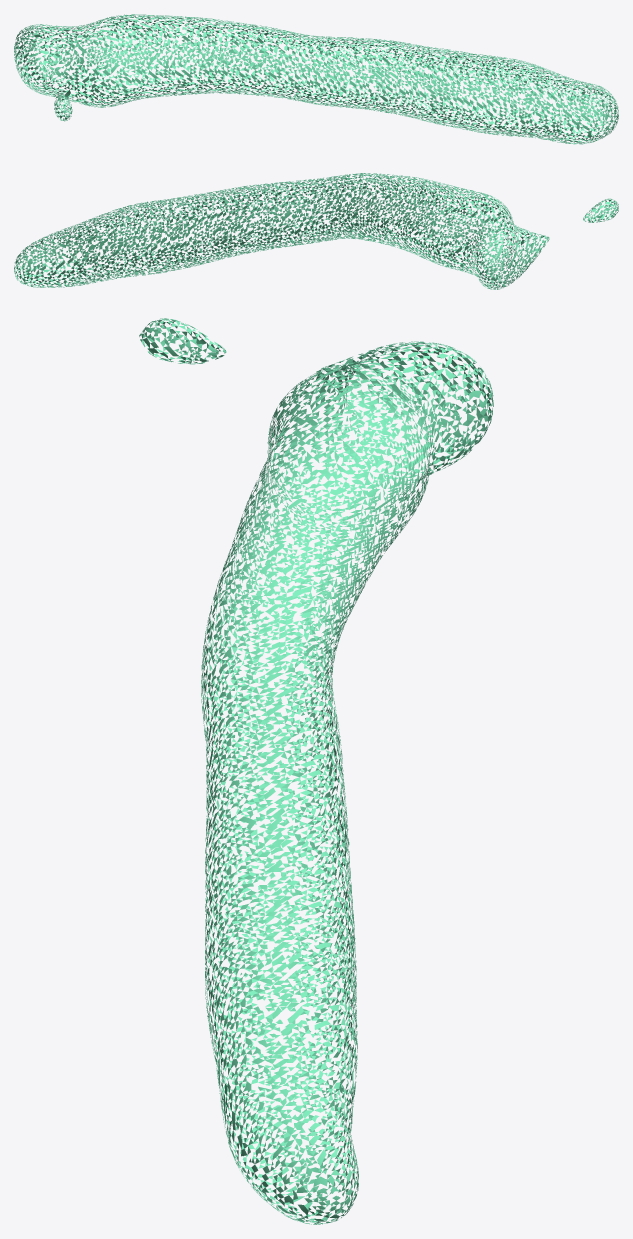
Rendered from healthy.glb.
3 renders of one model, top to bottom at view 1: azimuth 30°, elevation 25°; view 2: azimuth 150°, elevation 25°; view 3: azimuth 270°, elevation 25°, orthographic. The views are drawn at different scales.
Size of the model in its own units: 135 by 47.28 by 37.07.
